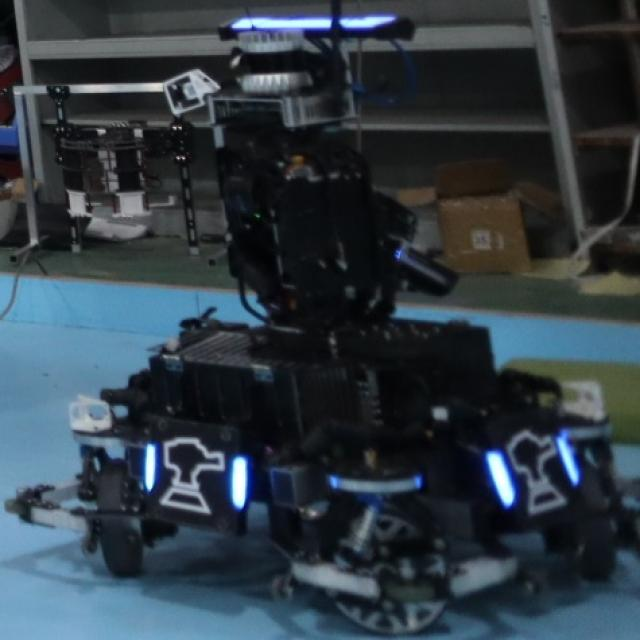Bs: (484, 422, 582, 518), (143, 434, 246, 516)
